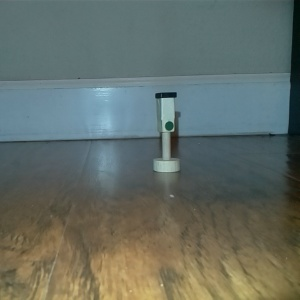traffic light green: (151, 89, 182, 175)
